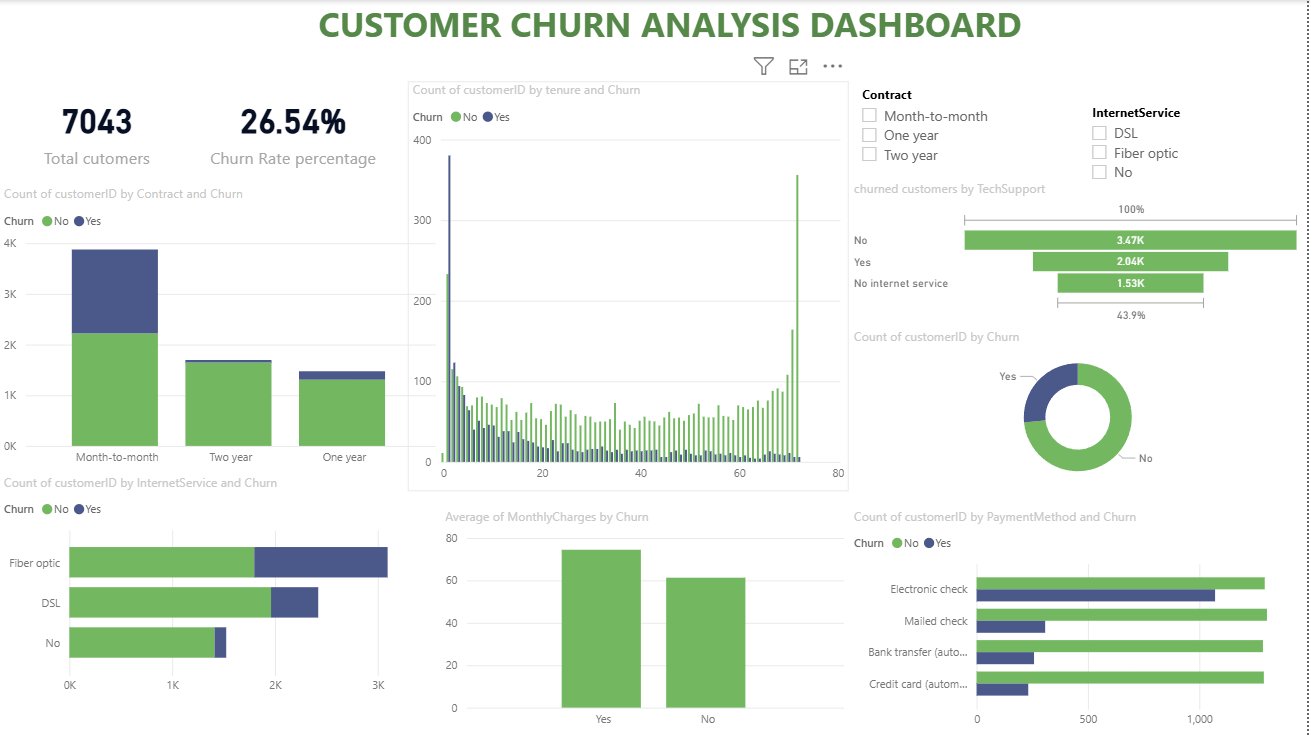

This screenshot's page, from the dashboard's own definition file:
{"tool":"powerbi","page":{"name":"Page 1","canvas":[1280,720],"ordinal":0},"visuals":[{"type":"card","fields":{"Values":["CountNonNull(churn.customerID)"]},"box":[0,80,192,96],"z":0},{"type":"card","fields":{"Values":["churn.Churn Rate percentage"]},"box":[192,80,192,96],"z":1000},{"type":"columnChart","fields":{"Category":["churn.Contract"],"Series":["churn.Churn"],"Y":["CountNonNull(churn.customerID)"]},"box":[0,176,432,288],"z":2000},{"type":"barChart","fields":{"Category":["churn.InternetService"],"Y":["CountNonNull(churn.customerID)"],"Series":["churn.Churn"]},"box":[0,464,432,224],"z":3000},{"type":"columnChart","fields":{"Category":["churn.Churn"],"Y":["Avg(churn.MonthlyCharges)"]},"box":[432,496,400,224],"z":4000},{"type":"clusteredColumnChart","fields":{"Category":["churn.tenure"],"Y":["CountNonNull(churn.customerID)"],"Series":["churn.Churn"]},"box":[400,80,432,400],"z":5000},{"type":"slicer","fields":{"Values":["churn.Contract"]},"box":[832,80,224,112],"z":6000},{"type":"slicer","fields":{"Values":["churn.InternetService"]},"box":[1056,96,224,96],"z":7000},{"type":"donutChart","fields":{"Category":["churn.Churn"],"Y":["CountNonNull(churn.customerID)"]},"box":[832,320,448,160],"z":8000},{"type":"clusteredBarChart","fields":{"Category":["churn.PaymentMethod"],"Y":["CountNonNull(churn.customerID)"],"Series":["churn.Churn"]},"box":[832,496,448,224],"z":10000},{"type":"textbox","title":"CUSTOMER CHURN ANALYSIS DASHBOARD","box":[304,0,704,80],"z":11000},{"type":"funnel","title":"churned customers by TechSupport","fields":{"Category":["churn.TechSupport"],"Y":["CountNonNull(churn.customerID)"]},"box":[832,176,448,144],"z":11001}]}

Visuals, with their boxes in screenshot pixels (x1, y1, x2, y2), scaled from the page's 1280x720 canvas onto the 1310x736 screenshot:
card - CountNonNull(churn.customerID): box=[0, 82, 196, 180]
card - churn.Churn Rate percentage: box=[196, 82, 393, 180]
columnChart - churn.Contract x churn.Churn: box=[0, 180, 442, 474]
barChart - churn.InternetService x CountNonNull(churn.customerID): box=[0, 474, 442, 703]
columnChart - churn.Churn x Avg(churn.MonthlyCharges): box=[442, 507, 852, 735]
clusteredColumnChart - churn.tenure x CountNonNull(churn.customerID): box=[409, 82, 852, 491]
slicer - churn.Contract: box=[852, 82, 1081, 196]
slicer - churn.InternetService: box=[1081, 98, 1309, 196]
donutChart - churn.Churn x CountNonNull(churn.customerID): box=[852, 327, 1309, 491]
clusteredBarChart - churn.PaymentMethod x CountNonNull(churn.customerID): box=[852, 507, 1309, 735]
"CUSTOMER CHURN ANALYSIS DASHBOARD" textbox: box=[311, 0, 1032, 82]
"churned customers by TechSupport" funnel: box=[852, 180, 1309, 327]
